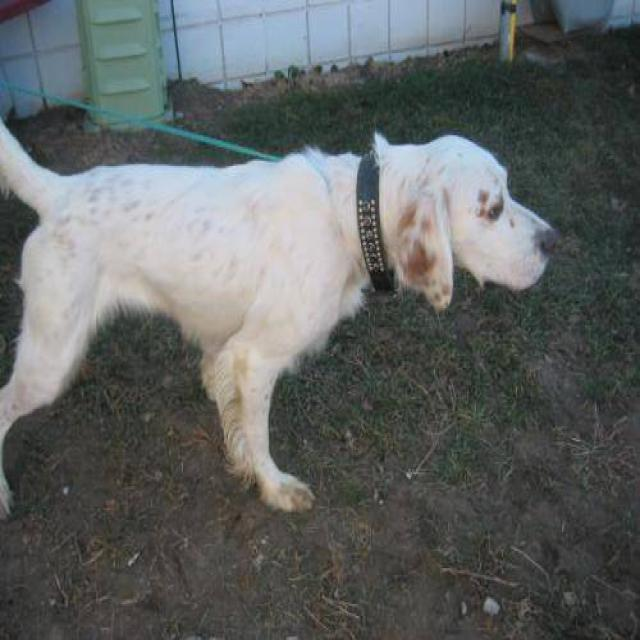dog: (0, 72, 558, 520)
